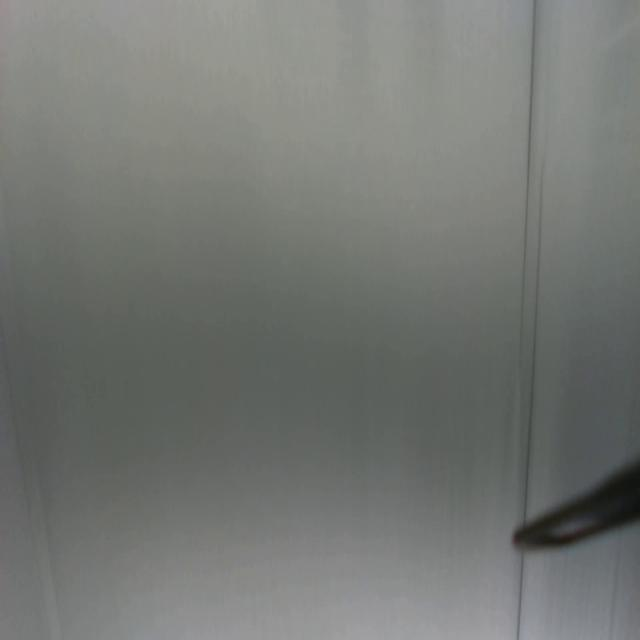crease: (524, 169, 546, 515), (518, 0, 538, 380), (516, 555, 527, 640)
